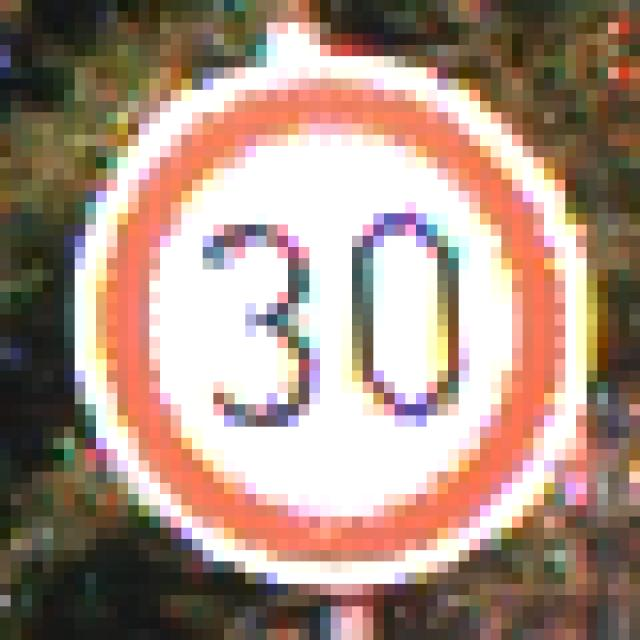Speed Limit -30-: (64, 51, 576, 578)
